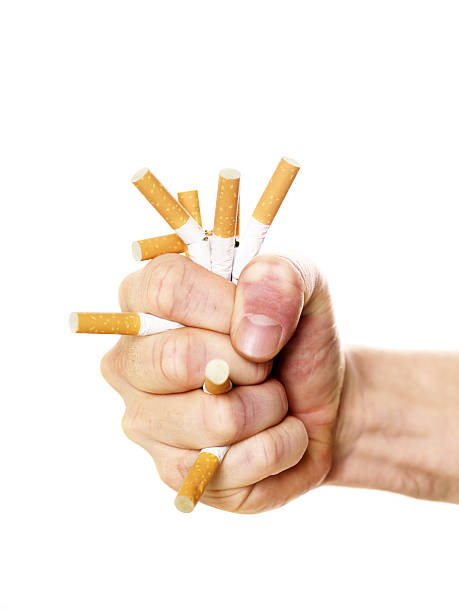cigarette: (231, 155, 303, 287), (129, 158, 212, 272), (170, 449, 228, 514), (211, 165, 242, 281), (70, 308, 182, 337), (130, 233, 187, 260), (203, 360, 236, 397), (177, 187, 204, 231)
